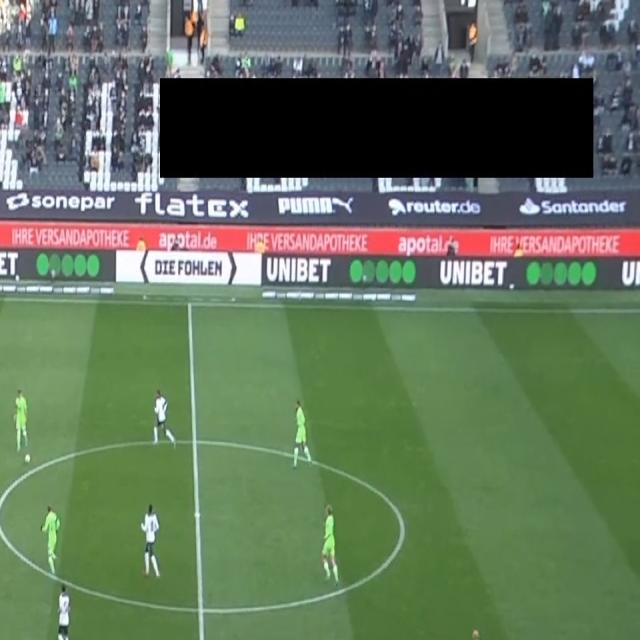ball: (24, 452, 31, 464)
